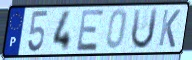0: (104, 7, 129, 52)
4: (51, 9, 74, 53)
5: (26, 9, 49, 53)
E: (75, 8, 106, 53)
K: (157, 8, 182, 49)
U: (130, 6, 160, 51)
